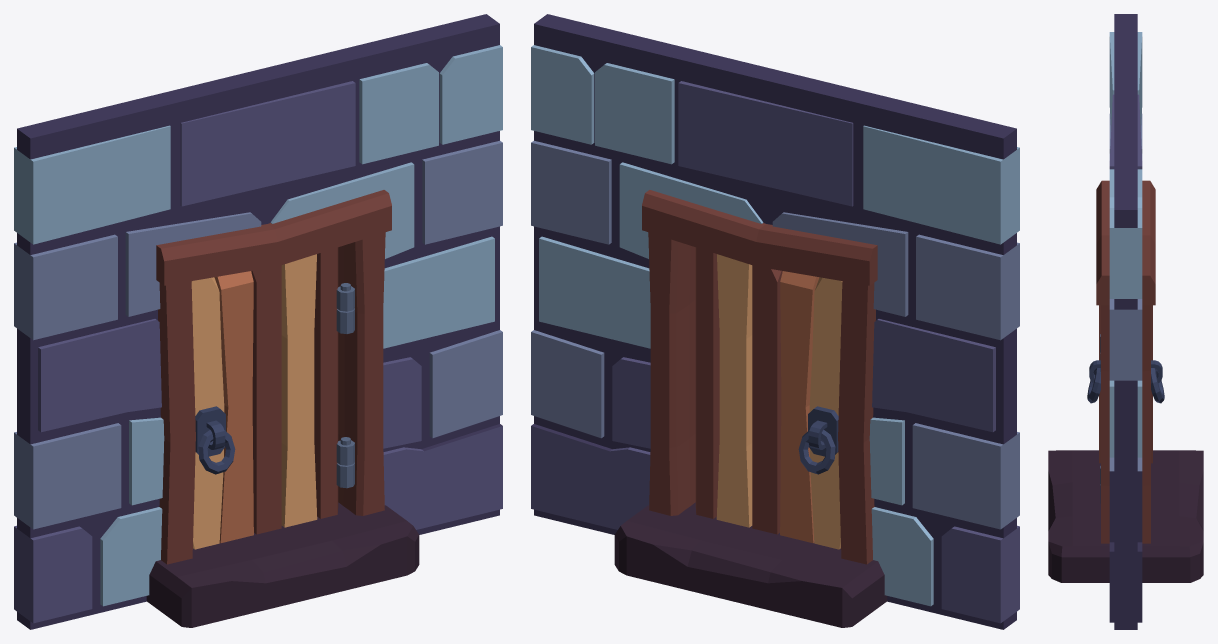
The model's file is Modular Wall 08 MK2 D2.fbx.
3 views of the same model, side by side, from view 1: azimuth 30°, elevation 25°; view 2: azimuth 150°, elevation 25°; view 3: azimuth 270°, elevation 25° (orthographic). The views are drawn at different scales.
Parts seen in each view (by area): view 1: Modular Wall 08 MK2 D2, Modular Wall 08 D2 Doors; view 2: Modular Wall 08 MK2 D2, Modular Wall 08 D2 Doors; view 3: Modular Wall 08 MK2 D2, Modular Wall 08 D2 Doors.
Boxes of the visible parts, x1=… form: Modular Wall 08 MK2 D2: x1=14, y1=14, x2=502, y2=629; Modular Wall 08 D2 Doors: x1=191, y1=247, x2=354, y2=549; Modular Wall 08 MK2 D2: x1=531, y1=14, x2=1019, y2=629; Modular Wall 08 D2 Doors: x1=695, y1=247, x2=842, y2=549; Modular Wall 08 MK2 D2: x1=1048, y1=14, x2=1203, y2=629; Modular Wall 08 D2 Doors: x1=1087, y1=334, x2=1164, y2=484.
Size of the model in its own units: 400 by 400 by 134.
